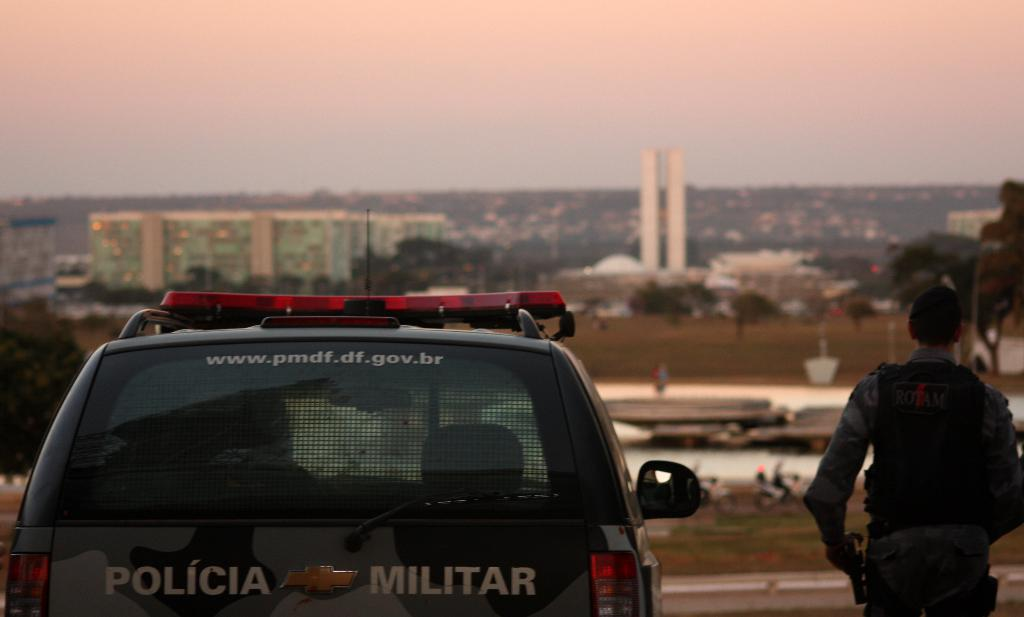Car: (18, 271, 631, 615)
